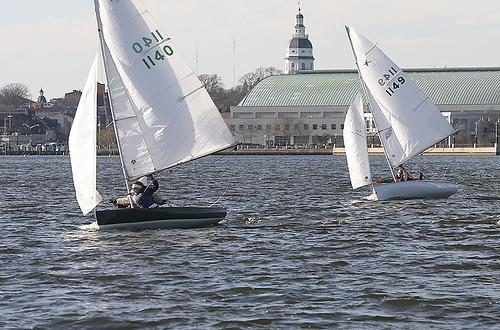Ship: (68, 1, 234, 231), (345, 26, 459, 203)
